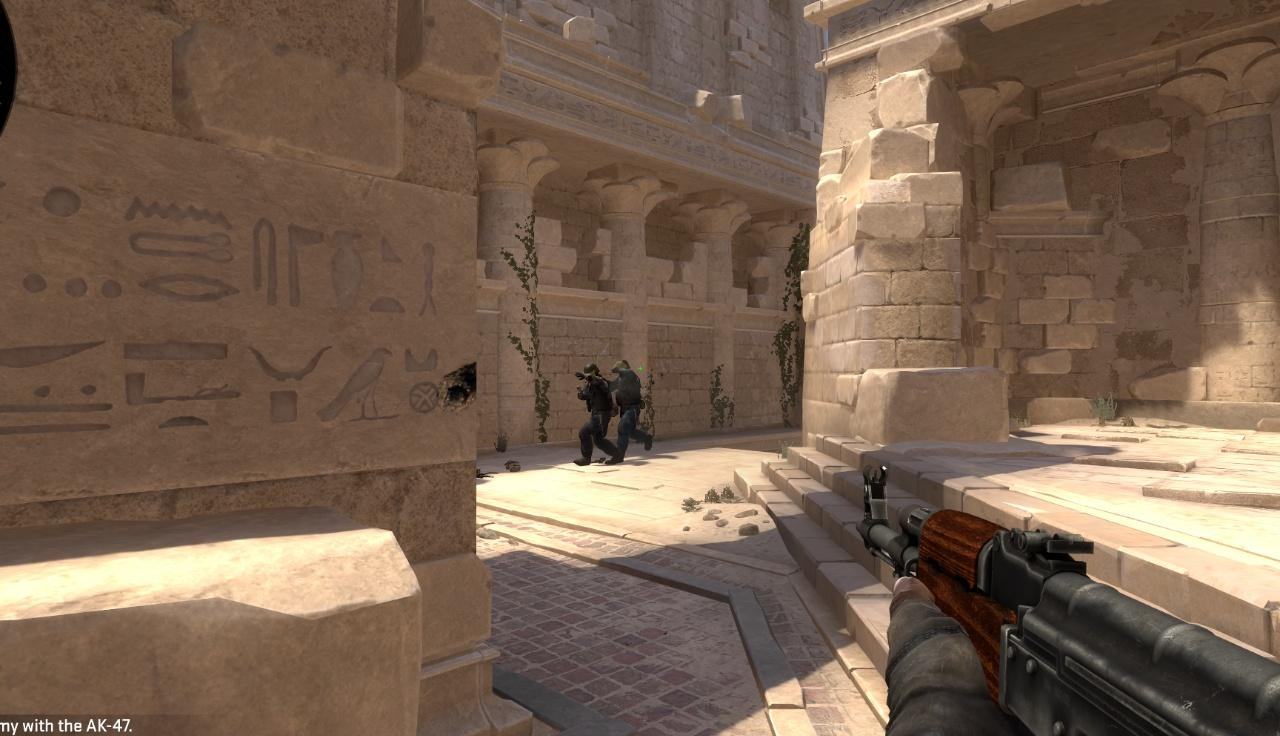ct: (605, 357, 655, 458), (572, 363, 621, 465)
cthead: (611, 359, 632, 379), (582, 363, 600, 384)
rifle: (852, 468, 1280, 734)
